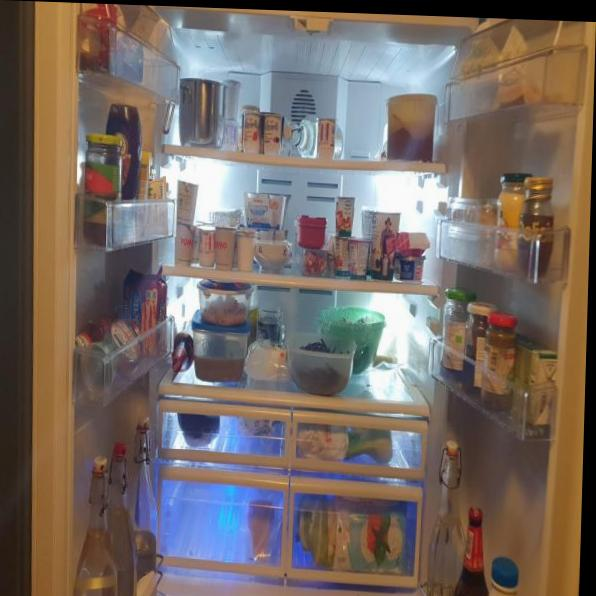bacon: (300, 252, 328, 280)
butter: (458, 46, 523, 83)
green beans: (291, 330, 351, 401)
milk: (484, 550, 519, 596)
yoghurt: (361, 204, 399, 281), (241, 189, 293, 236), (332, 233, 372, 282), (242, 111, 284, 156), (247, 338, 288, 380), (175, 174, 200, 229), (174, 220, 200, 267), (195, 223, 217, 271), (213, 226, 236, 271), (333, 194, 356, 238), (315, 116, 336, 162), (235, 227, 255, 275), (222, 78, 240, 122), (220, 117, 241, 154)
